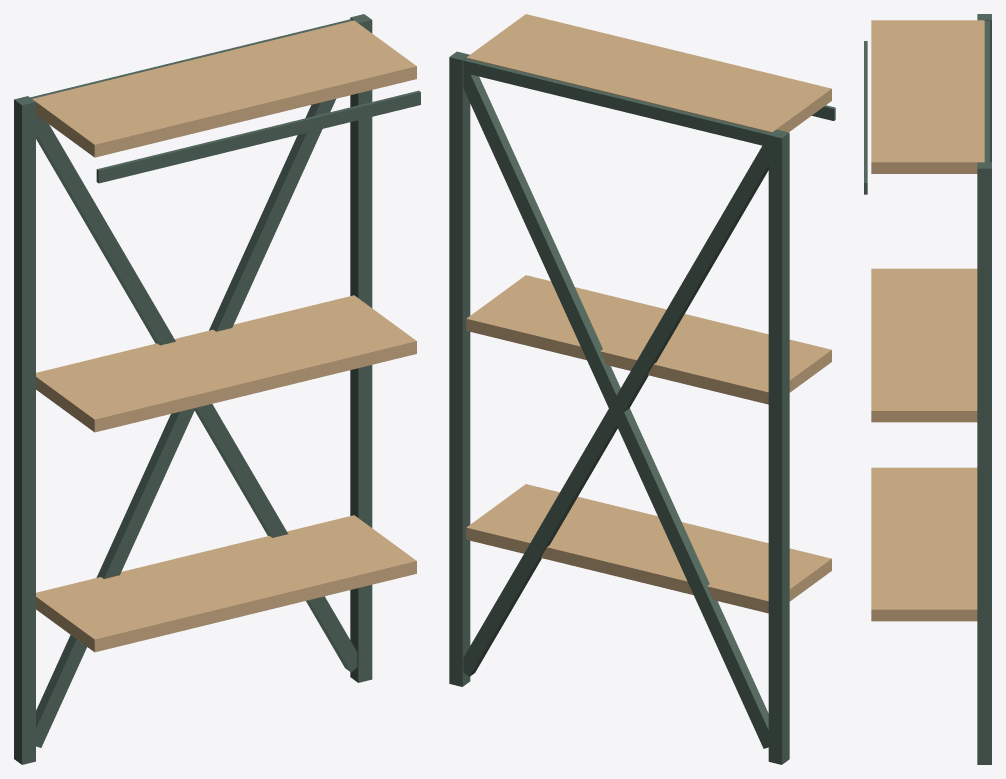
The picture shows the model from 3 angles, left to right: view 1: azimuth 30°, elevation 25°; view 2: azimuth 150°, elevation 25°; view 3: azimuth 270°, elevation 25°; orthographic projection. The views are drawn at different scales.
Parts seen in each view (by area): view 1: shelf-board-top, shelf-board-middle, shelf-board-lower, crossback-left-post, crossback-diagonal-right, crossback-right-post, crossback-diagonal-left, crossback-front-rail, crossback-top-rail; view 2: shelf-board-top, shelf-board-middle, shelf-board-lower, crossback-diagonal-right, crossback-left-post, crossback-right-post, crossback-diagonal-left, crossback-top-rail; view 3: shelf-board-top, shelf-board-lower, shelf-board-middle, crossback-right-post, crossback-top-rail, crossback-front-rail, crossback-left-post.
Part boxes in pixels (<box>): shelf-board-top: <box>32,20,416,157</box>; shelf-board-middle: <box>36,295,416,432</box>; shelf-board-lower: <box>36,515,416,652</box>; crossback-left-post: <box>14,96,35,764</box>; crossback-diagonal-right: <box>36,99,335,747</box>; crossback-right-post: <box>350,14,372,682</box>; crossback-diagonal-left: <box>36,115,357,672</box>; crossback-front-rail: <box>96,90,420,183</box>; crossback-top-rail: <box>30,19,352,98</box>; shelf-board-top: <box>466,14,831,132</box>; shelf-board-middle: <box>466,275,831,404</box>; shelf-board-lower: <box>466,484,831,613</box>; crossback-diagonal-right: <box>463,72,768,748</box>; crossback-left-post: <box>768,129,789,764</box>; crossback-right-post: <box>449,51,470,686</box>; crossback-diagonal-left: <box>463,144,768,676</box>; crossback-top-rail: <box>463,58,770,146</box>; shelf-board-top: <box>871,20,984,173</box>; shelf-board-lower: <box>871,467,977,621</box>; shelf-board-middle: <box>871,268,977,422</box>; crossback-right-post: <box>977,162,991,764</box>; crossback-top-rail: <box>984,21,989,162</box>; crossback-front-rail: <box>864,41,867,194</box>; crossback-left-post: <box>977,14,991,162</box>.
Bounding box in the file's own units: 1 × 1.8 × 0.35.
